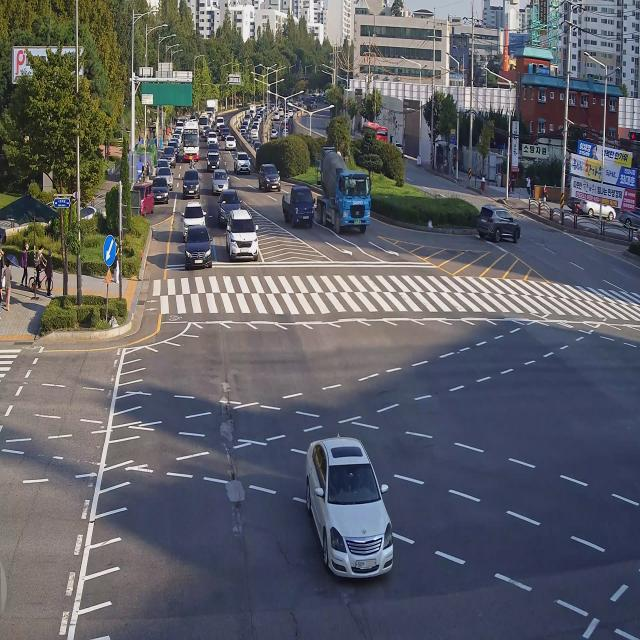Bus: (180, 116, 203, 167), (362, 119, 388, 151), (198, 111, 210, 132)
Car: (294, 426, 402, 593), (222, 196, 266, 270), (473, 202, 525, 252), (180, 221, 214, 290), (54, 193, 106, 233), (578, 191, 618, 224), (178, 161, 206, 205), (131, 182, 158, 220), (258, 160, 284, 198), (617, 197, 640, 230), (209, 163, 230, 199), (150, 174, 170, 206), (235, 146, 255, 177), (205, 145, 222, 179), (158, 167, 174, 191), (566, 189, 581, 211), (163, 145, 177, 167), (156, 158, 171, 174), (225, 134, 238, 152), (168, 141, 178, 160), (394, 140, 404, 158), (170, 136, 180, 153), (172, 132, 182, 149), (173, 128, 183, 144), (207, 131, 218, 145), (175, 121, 184, 136), (216, 115, 225, 130), (269, 128, 279, 141), (254, 142, 264, 155), (202, 123, 211, 136), (222, 126, 231, 139), (252, 138, 260, 152), (204, 127, 212, 140), (244, 112, 252, 125), (252, 121, 261, 132), (282, 128, 290, 140), (242, 119, 250, 131), (240, 132, 248, 144), (219, 125, 225, 138), (310, 100, 318, 109), (273, 111, 280, 121), (298, 102, 305, 112), (278, 106, 284, 117), (282, 120, 288, 130), (179, 116, 186, 123), (284, 112, 290, 120), (288, 110, 294, 118), (283, 105, 289, 113), (306, 104, 312, 112), (239, 128, 247, 134), (283, 116, 289, 123), (239, 124, 246, 130), (259, 112, 263, 122), (252, 125, 258, 131), (257, 115, 261, 124), (264, 107, 268, 116), (256, 107, 260, 115), (184, 116, 188, 123), (260, 105, 263, 111), (254, 118, 258, 122)
Motorcycle: (188, 154, 196, 170), (271, 118, 275, 130)
Truck: (312, 128, 372, 240), (275, 173, 321, 236), (206, 97, 220, 123), (206, 108, 217, 127), (250, 102, 256, 119), (250, 129, 258, 141), (292, 106, 297, 115)
